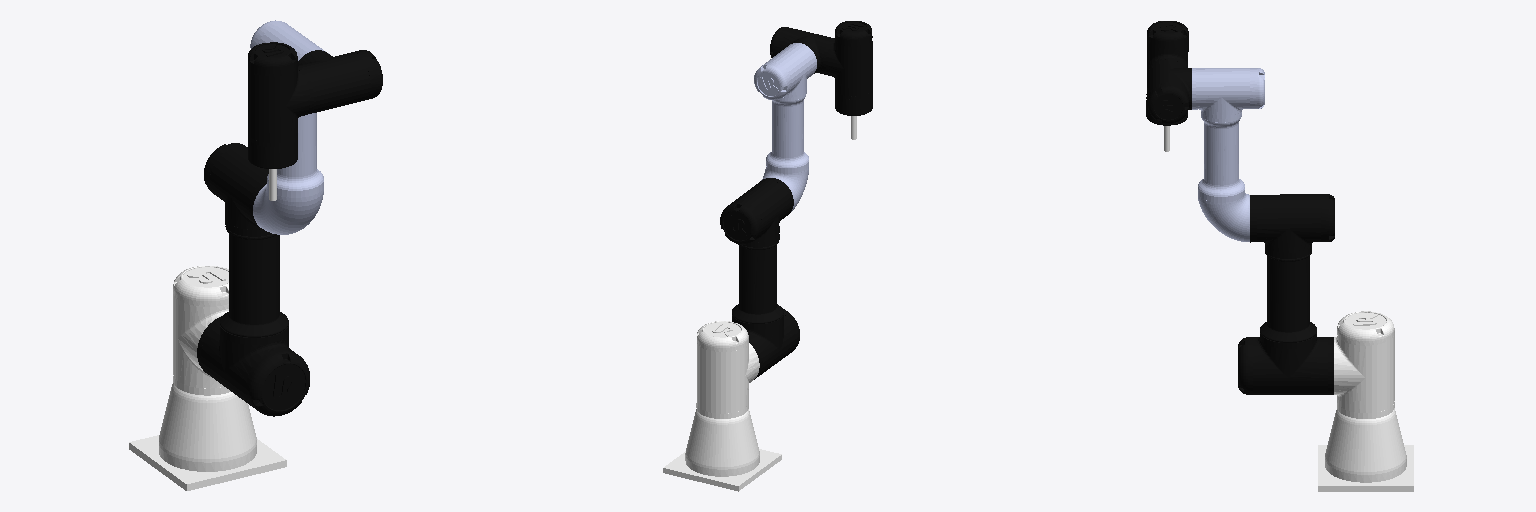
robot.urdf — UR3_urdf_v2:
<?xml version="1.0" encoding="utf-8"?>
<!-- This URDF was automatically created by SolidWorks to URDF Exporter! Originally created by [author] ([email redacted]) 
     Commit Version: 1.5.1-0-g916b5db  Build Version: 1.5.7152.31018
     For more information, please see http://wiki.ros.org/sw_urdf_exporter -->
<robot
  name="UR3_urdf_v2">
  <link
    name="base_link">
    <inertial>
      <origin
        xyz="0 0 0.005"
        rpy="0 0 0" />
      <mass
        value="0.219247824581995" />
      <inertia
        ixx="0.000423438763070488"
        ixy="1.64527679674676E-20"
        ixz="-5.56331239756624E-22"
        iyy="0.000423438763070488"
        iyz="-1.49247205306208E-21"
        izz="0.000843223395731276" />
    </inertial>
    <visual>
      <origin
        xyz="0 0 0"
        rpy="0 0 0" />
      <geometry>
        <mesh
          filename="package://UR3_urdf_v2/meshes/base_link.STL" />
      </geometry>
      <material
        name="">
        <color
          rgba="1 1 1 1" />
      </material>
    </visual>
    <collision>
      <origin
        xyz="0 0 0"
        rpy="0 0 0" />
      <geometry>
        <mesh
          filename="package://UR3_urdf_v2/meshes/base_link.STL" />
      </geometry>
    </collision>
  </link>
  <link
    name="Link1">
    <inertial>
      <origin
        xyz="-1.81464790971475E-07 -0.00245191270300232 0.115891640649148"
        rpy="0 0 0" />
      <mass
        value="1.88855545639337" />
      <inertia
        ixx="0.00321609146895658"
        ixy="1.54285189559288E-08"
        ixz="2.31288488343729E-09"
        iyy="0.0031032236320525"
        iyz="1.9344659065763E-05"
        izz="0.00271016602459943" />
    </inertial>
    <visual>
      <origin
        xyz="0 0 0"
        rpy="0 0 0" />
      <geometry>
        <mesh
          filename="package://UR3_urdf_v2/meshes/Link1.STL" />
      </geometry>
      <material
        name="">
        <color
          rgba="1 1 1 1" />
      </material>
    </visual>
    <collision>
      <origin
        xyz="0 0 0"
        rpy="0 0 0" />
      <geometry>
        <mesh
          filename="package://UR3_urdf_v2/meshes/Link1.STL" />
      </geometry>
    </collision>
  </link>
  <joint
    name="joint1"
    type="continuous">
    <origin
      xyz="0 0 0"
      rpy="0 0 0" />
    <parent
      link="base_link" />
    <child
      link="Link1" />
    <axis
      xyz="0 0 -1" />
  </joint>
  <link
    name="Link2">
    <inertial>
      <origin
        xyz="-3.4723E-06 -0.10579 0.070117"
        rpy="0 0 0" />
      <mass
        value="2.0253" />
      <inertia
        ixx="0.003669"
        ixy="-4.1886E-08"
        ixz="2.4375E-06"
        iyy="0.0024884"
        iyz="2.439E-05"
        izz="0.0029208" />
    </inertial>
    <visual>
      <origin
        xyz="0 0 0"
        rpy="0 0 0" />
      <geometry>
        <mesh
          filename="package://UR3_urdf_v2/meshes/Link2.STL" />
      </geometry>
      <material
        name="">
        <color
          rgba="0.098039 0.098039 0.098039 1" />
      </material>
    </visual>
    <collision>
      <origin
        xyz="0 0 0"
        rpy="0 0 0" />
      <geometry>
        <mesh
          filename="package://UR3_urdf_v2/meshes/Link2.STL" />
      </geometry>
    </collision>
  </link>
  <joint
    name="joint2"
    type="continuous">
    <origin
      xyz="0 -0.05 0.1818"
      rpy="-1.5708 0 3.1416" />
    <parent
      link="Link1" />
    <child
      link="Link2" />
    <axis
      xyz="0 0 -1" />
  </joint>
  <link
    name="Link3">
    <inertial>
      <origin
        xyz="1.187E-07 -0.1163 0.049938"
        rpy="0 0 0" />
      <mass
        value="1.0386" />
      <inertia
        ixx="0.0012816"
        ixy="-3.0944E-09"
        ixz="9.3118E-10"
        iyy="0.00072038"
        iyz="6.3338E-05"
        izz="0.0011466" />
    </inertial>
    <visual>
      <origin
        xyz="0 0 0"
        rpy="0 0 0" />
      <geometry>
        <mesh
          filename="package://UR3_urdf_v2/meshes/Link3.STL" />
      </geometry>
      <material
        name="">
        <color
          rgba="0.79216 0.81961 0.93333 1" />
      </material>
    </visual>
    <collision>
      <origin
        xyz="0 0 0"
        rpy="0 0 0" />
      <geometry>
        <mesh
          filename="package://UR3_urdf_v2/meshes/Link3.STL" />
      </geometry>
    </collision>
  </link>
  <joint
    name="joint3"
    type="continuous">
    <origin
      xyz="-0.00051227 -0.255 0.121"
      rpy="0 -0.010246 0" />
    <parent
      link="Link2" />
    <child
      link="Link3" />
    <axis
      xyz="0 0 1" />
  </joint>
  <link
    name="Link4">
    <inertial>
      <origin
        xyz="2.0073E-07 0.0020477 0.039537"
        rpy="0 0 0" />
      <mass
        value="0.34315" />
      <inertia
        ixx="0.00031642"
        ixy="-5.0969E-10"
        ixz="-4.2575E-09"
        iyy="0.00021713"
        iyz="-1.4468E-06"
        izz="0.00029172" />
    </inertial>
    <visual>
      <origin
        xyz="0 0 0"
        rpy="0 0 0" />
      <geometry>
        <mesh
          filename="package://UR3_urdf_v2/meshes/Link4.STL" />
      </geometry>
      <material
        name="">
        <color
          rgba="0.098039 0.098039 0.098039 1" />
      </material>
    </visual>
    <collision>
      <origin
        xyz="0 0 0"
        rpy="0 0 0" />
      <geometry>
        <mesh
          filename="package://UR3_urdf_v2/meshes/Link4.STL" />
      </geometry>
    </collision>
  </link>
  <joint
    name="joint4"
    type="continuous">
    <origin
      xyz="0 -0.2245 0.095"
      rpy="0 0 1.5708" />
    <parent
      link="Link3" />
    <child
      link="Link4" />
    <axis
      xyz="0 0 1" />
  </joint>
  <link
    name="Link5">
    <inertial>
      <origin
        xyz="0.01796 0.00018388 0.040713"
        rpy="0 0 0" />
      <mass
        value="0.48817" />
      <inertia
        ixx="0.00029409"
        ixy="-1.4702E-06"
        ixz="-4.5602E-06"
        iyy="0.00043751"
        iyz="-5.0937E-08"
        izz="0.00041232" />
    </inertial>
    <visual>
      <origin
        xyz="0 0 0"
        rpy="0 0 0" />
      <geometry>
        <mesh
          filename="package://UR3_urdf_v2/meshes/Link5.STL" />
      </geometry>
      <material
        name="">
        <color
          rgba="0.098039 0.098039 0.098039 1" />
      </material>
    </visual>
    <collision>
      <origin
        xyz="0 0 0"
        rpy="0 0 0" />
      <geometry>
        <mesh
          filename="package://UR3_urdf_v2/meshes/Link5.STL" />
      </geometry>
    </collision>
  </link>
  <joint
    name="joint5"
    type="continuous">
    <origin
      xyz="0 -0.04 0.0435"
      rpy="1.5708 0 0" />
    <parent
      link="Link4" />
    <child
      link="Link5" />
    <axis
      xyz="0 0 1" />
  </joint>
  <link
    name="Link6">
    <inertial>
      <origin
        xyz="-5.5511E-17 1.1102E-16 0.03"
        rpy="0 0 0" />
      <mass
        value="0.0047124" />
      <inertia
        ixx="1.4432E-06"
        ixy="3.1609E-24"
        ixz="-8.3235E-24"
        iyy="1.4432E-06"
        iyz="-4.8615E-22"
        izz="5.8905E-08" />
    </inertial>
    <visual>
      <origin
        xyz="0 0 0"
        rpy="0 0 0" />
      <geometry>
        <mesh
          filename="package://UR3_urdf_v2/meshes/Link6.STL" />
      </geometry>
      <material
        name="">
        <color
          rgba="1 1 1 1" />
      </material>
    </visual>
    <collision>
      <origin
        xyz="0 0 0"
        rpy="0 0 0" />
      <geometry>
        <mesh
          filename="package://UR3_urdf_v2/meshes/Link6.STL" />
      </geometry>
    </collision>
  </link>
  <joint
    name="joint6"
    type="fixed">
    <origin
      xyz="0.085496 0.00087599 0.0435"
      rpy="-1.5708 0 -1.5706" />
    <parent
      link="Link5" />
    <child
      link="Link6" />
    <axis
      xyz="0 0 0" />
  </joint>
</robot>

--- Render facts (derived) ---
The picture shows the robot from 3 angles, left to right: view 1: azimuth 30°, elevation 25°; view 2: azimuth 150°, elevation 25°; view 3: azimuth 270°, elevation 25°; orthographic projection.
Model UR3_urdf_v2 with 7 links and 6 joints (5 continuous, 1 fixed), rooted at base_link, posed every joint at zero.
Visible links, largest first — view 1: Link2, Link1, Link5, Link3, Link4, base_link; view 2: Link1, Link2, Link3, Link5, base_link, Link4; view 3: Link2, Link1, Link3, Link4, Link5, base_link.
Boxes of the visible links, x1,y1,x2,y2 form: Link2: (197,143,309,416); Link1: (159,266,256,471); Link5: (248,42,309,168); Link3: (250,20,328,234); Link4: (298,50,382,115); base_link: (129,435,286,490); Link1: (685,321,759,476); Link2: (720,178,799,379); Link3: (754,43,816,211); Link5: (826,21,872,115); base_link: (663,449,781,491); Link4: (770,27,834,75); Link2: (1238,194,1334,394); Link1: (1325,311,1406,482); Link3: (1192,68,1264,241); Link4: (1147,58,1191,123); Link5: (1146,21,1188,125); base_link: (1318,445,1413,491).
Size in the robot's own frame: 0.1891 by 0.4187 by 0.7295 metres.
7 mesh visuals loaded from 7 distinct referenced files (7 binary STL).